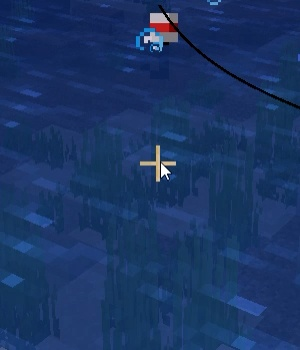up: (140, 15, 179, 78)
